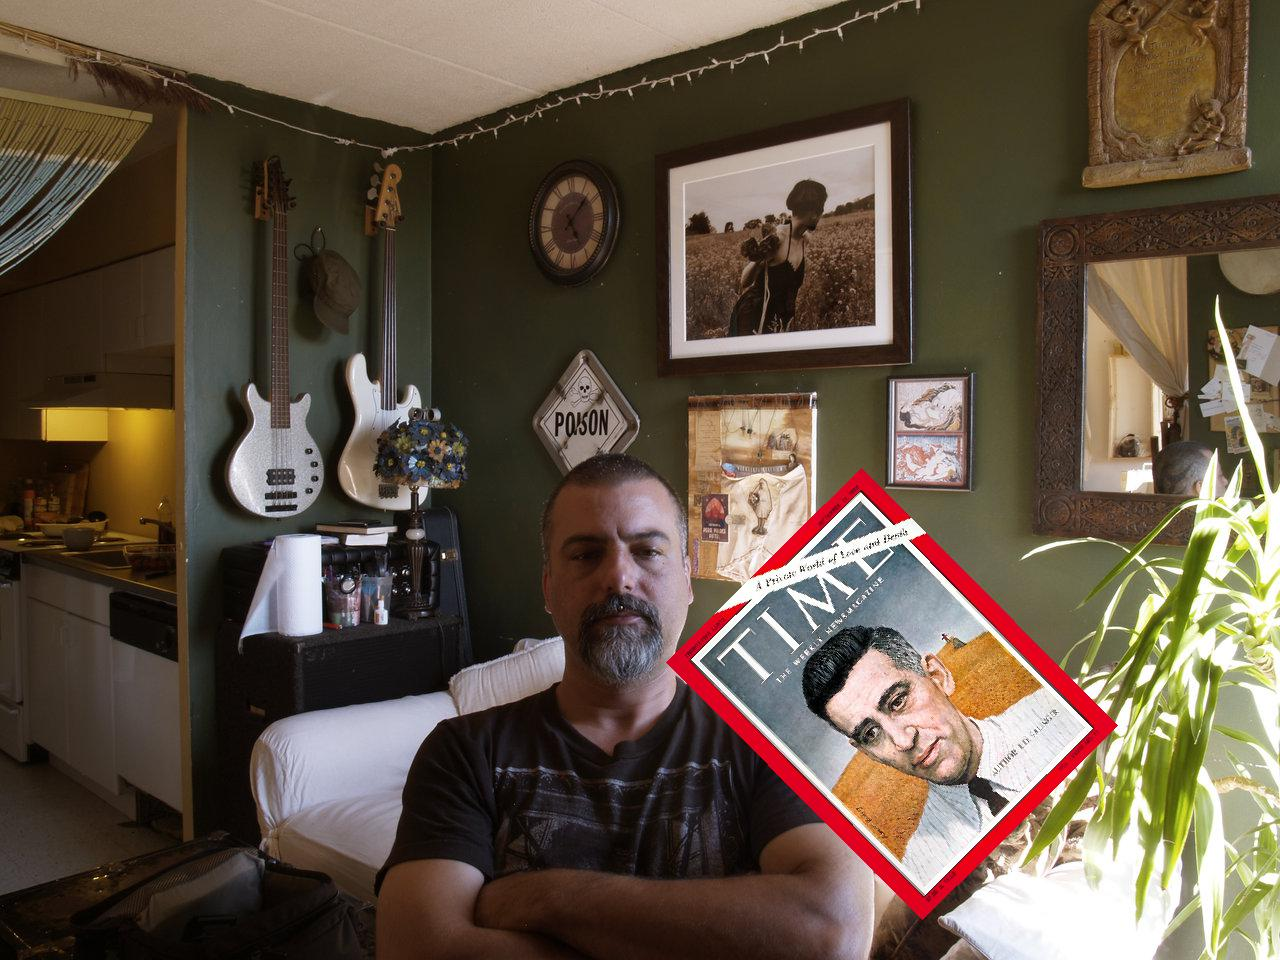times: (658, 466, 1128, 931)
